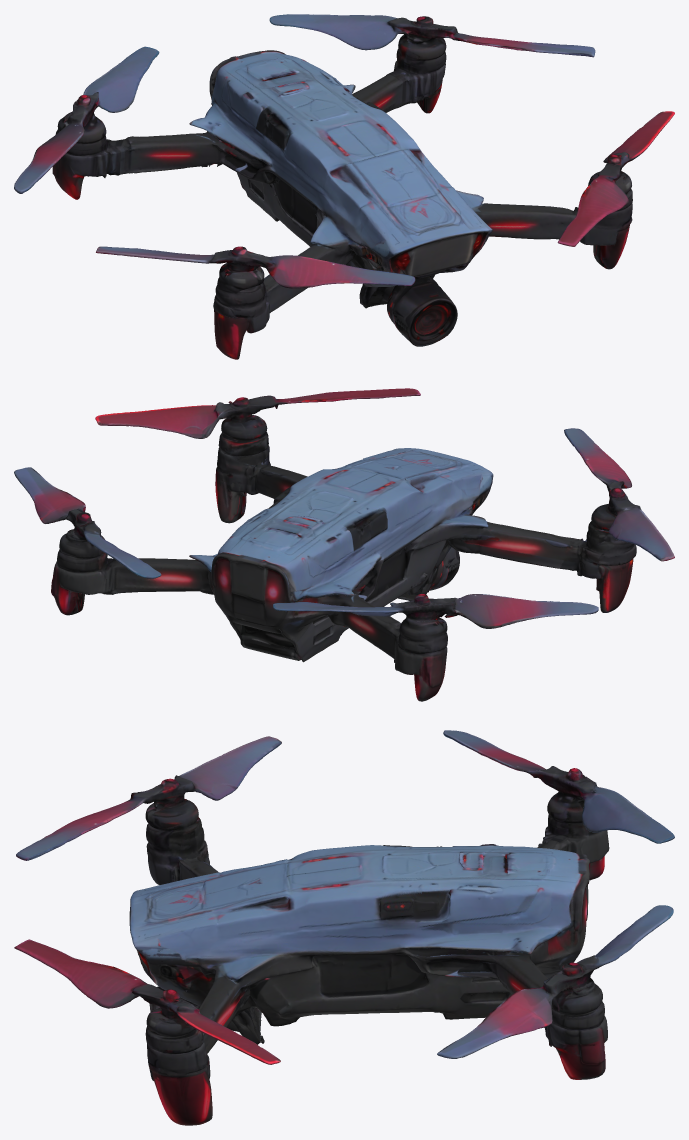
The model's file is dron.glb.
3 views of the same model, one above another, from view 1: azimuth 30°, elevation 25°; view 2: azimuth 150°, elevation 25°; view 3: azimuth 270°, elevation 25° (orthographic). The views are drawn at different scales.
Bounding box in the file's own units: 2 × 0.5377 × 1.71.
Materials: 1 (1 with a texture image).
